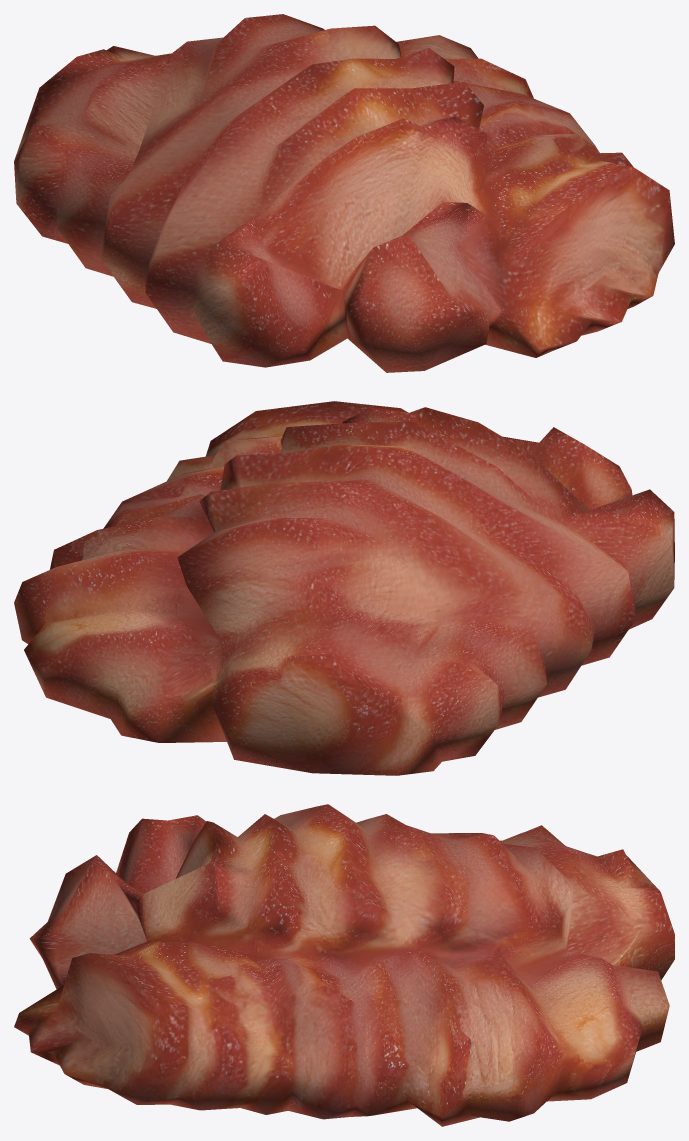
3 views of the same model, one above another, from view 1: azimuth 30°, elevation 25°; view 2: azimuth 150°, elevation 25°; view 3: azimuth 270°, elevation 25° (orthographic). The views are drawn at different scales.
Parts seen in each view (by area): view 1: tripo_node_816d972e-216b-44e4-a9b0-6e72338a3da5; view 2: tripo_node_816d972e-216b-44e4-a9b0-6e72338a3da5; view 3: tripo_node_816d972e-216b-44e4-a9b0-6e72338a3da5.
Boxes of the visible parts, <box> form: tripo_node_816d972e-216b-44e4-a9b0-6e72338a3da5: <box>14,14,674,372</box>; tripo_node_816d972e-216b-44e4-a9b0-6e72338a3da5: <box>14,401,674,775</box>; tripo_node_816d972e-216b-44e4-a9b0-6e72338a3da5: <box>14,804,674,1126</box>.
Size of the model in its own units: 0.8262 by 0.3105 by 0.998.
1 material, 1 textured.
